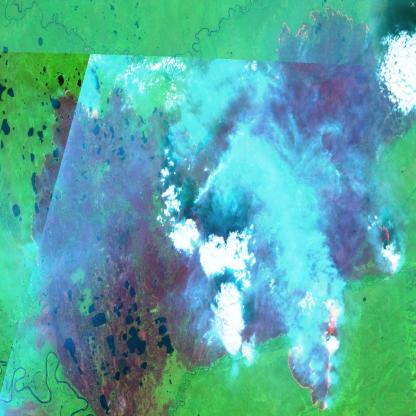fire: (26, 77, 102, 293), (265, 0, 378, 91), (284, 293, 344, 416), (368, 219, 399, 261)
